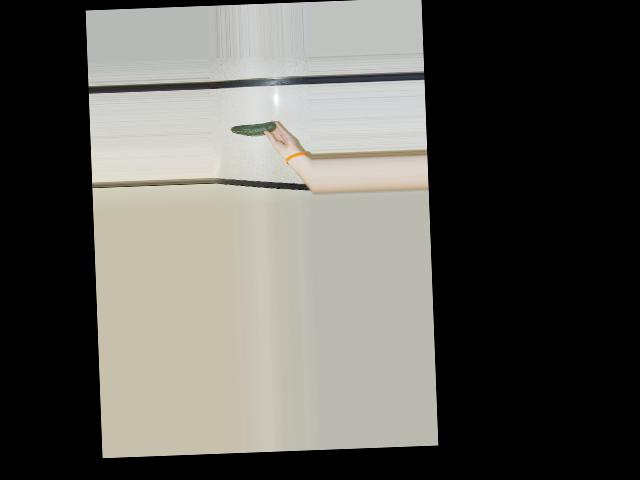cucumber: (230, 121, 277, 136)
